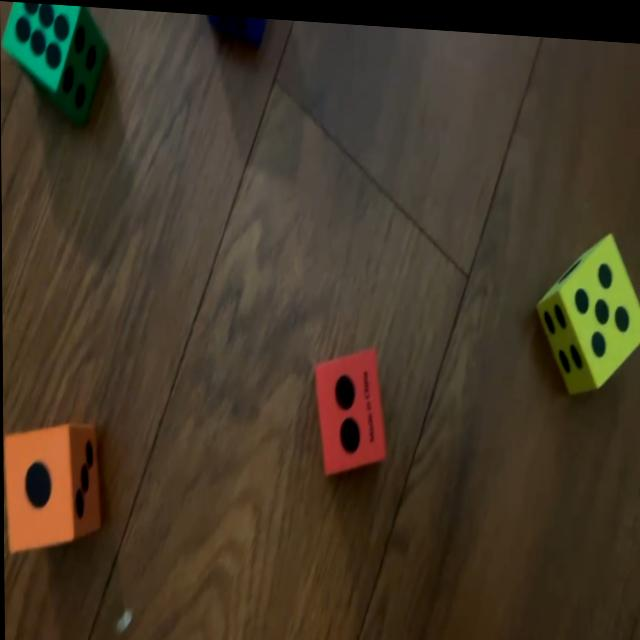cube: (2, 0, 107, 117), (314, 341, 385, 471), (209, 11, 261, 34)
